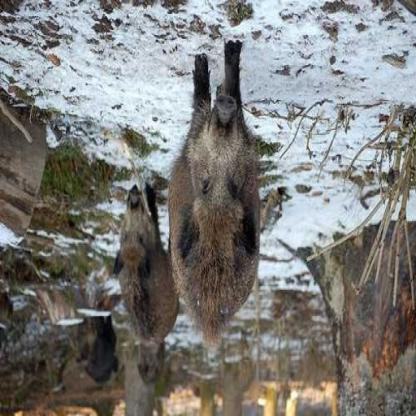boar: (170, 55, 269, 358), (111, 187, 176, 354)
